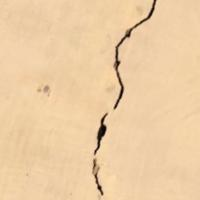crack: (83, 0, 166, 199)
